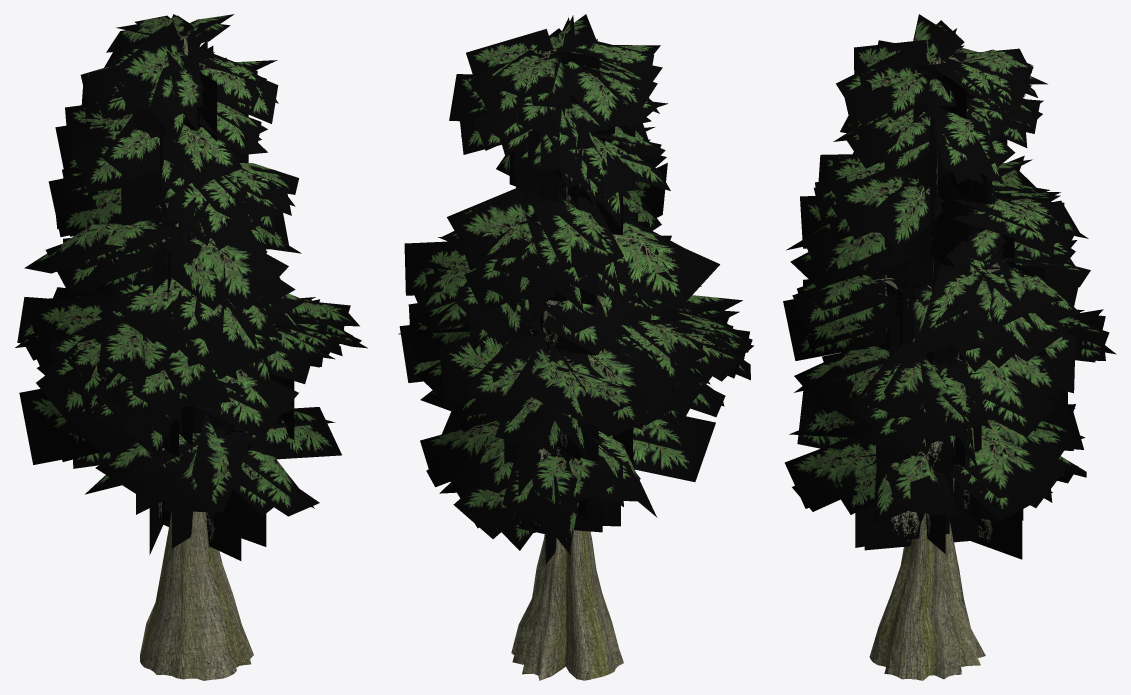
File: cypres_chauve.fbx
3 views of the same model, side by side, from view 1: azimuth 30°, elevation 25°; view 2: azimuth 150°, elevation 25°; view 3: azimuth 270°, elevation 25° (orthographic). The views are drawn at different scales.
Visible parts, largest first — view 1: cypres_chauve_cypreschauve_needles_D, cypres_chauve_cypreschauve_bark_D, cypres_chauve_CypresChauve_mousse_D; view 2: cypres_chauve_cypreschauve_needles_D, cypres_chauve_cypreschauve_bark_D, cypres_chauve_CypresChauve_mousse_D; view 3: cypres_chauve_cypreschauve_needles_D, cypres_chauve_CypresChauve_mousse_D, cypres_chauve_cypreschauve_bark_D.
Part boxes in pixels (bbox=[...]): cypres_chauve_cypreschauve_needles_D: bbox=[15, 14, 367, 523]; cypres_chauve_cypreschauve_bark_D: bbox=[140, 35, 253, 680]; cypres_chauve_CypresChauve_mousse_D: bbox=[110, 38, 294, 560]; cypres_chauve_cypreschauve_needles_D: bbox=[398, 14, 753, 554]; cypres_chauve_cypreschauve_bark_D: bbox=[511, 45, 623, 680]; cypres_chauve_CypresChauve_mousse_D: bbox=[470, 39, 673, 564]; cypres_chauve_cypreschauve_needles_D: bbox=[783, 14, 1116, 525]; cypres_chauve_CypresChauve_mousse_D: bbox=[855, 64, 1067, 559]; cypres_chauve_cypreschauve_bark_D: bbox=[869, 54, 985, 680].
Bounding box in the file's own units: 13.05 × 11.77 × 24.07.
